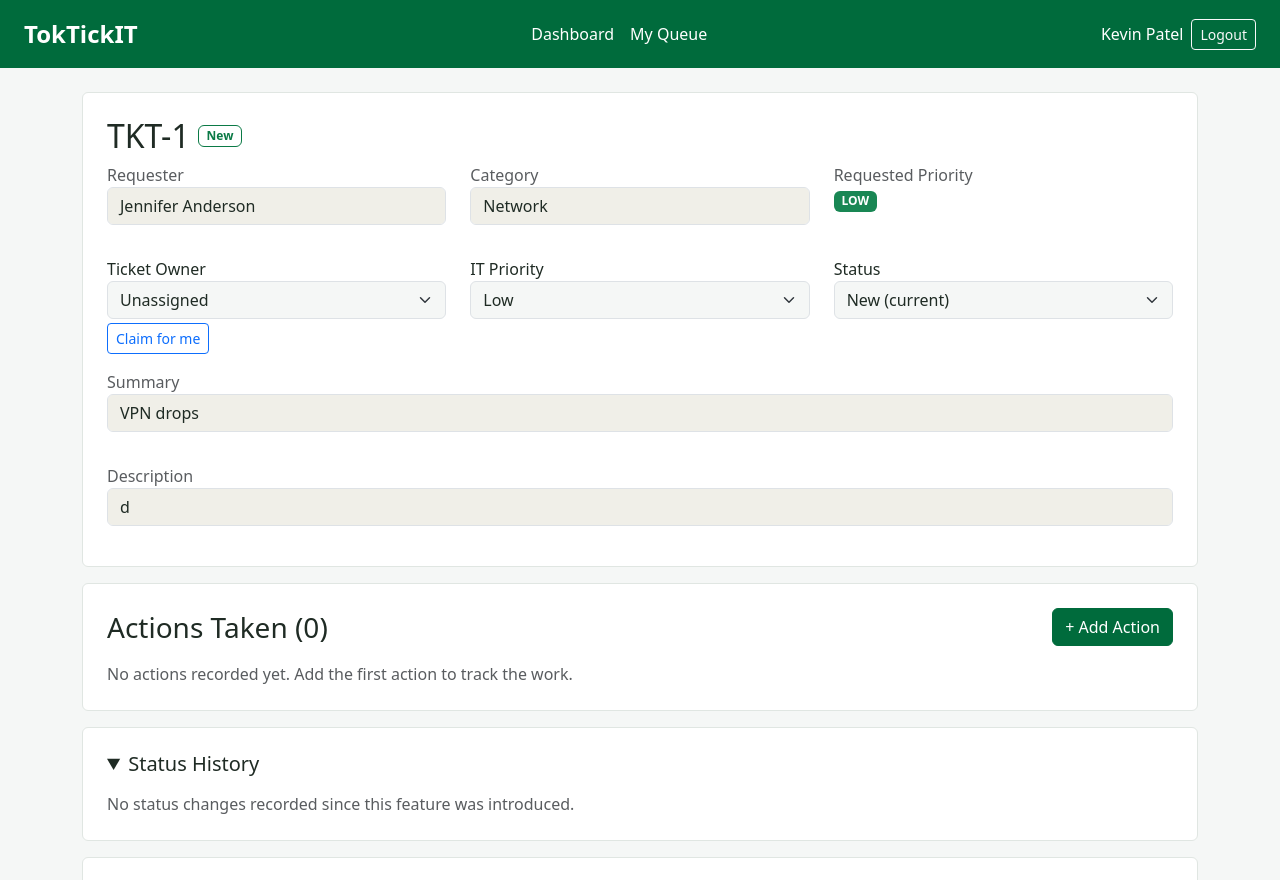
Test case: Ticket workflow UI › stages a status change, saves it with the ticket version on Confirm, and refreshes the badge (FR-06, BR-17)
Select "Open" in the dropdown with test id "status-select" at (1003, 300), box [834,281,1173,319]
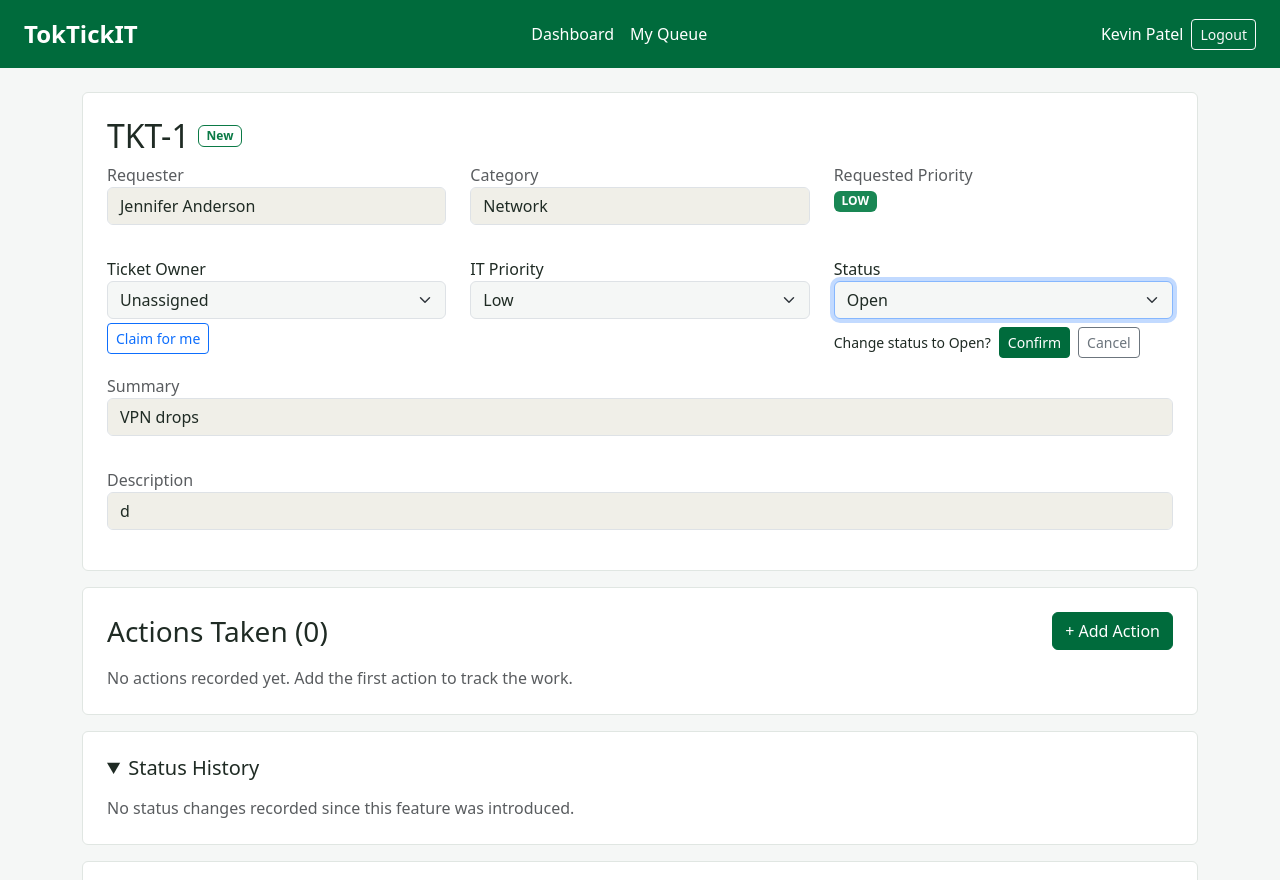
Now the text "Change status to Open?" is shown, box [834,332,991,353]
Click the button "Confirm" at (1034, 343), box [999,327,1070,358]
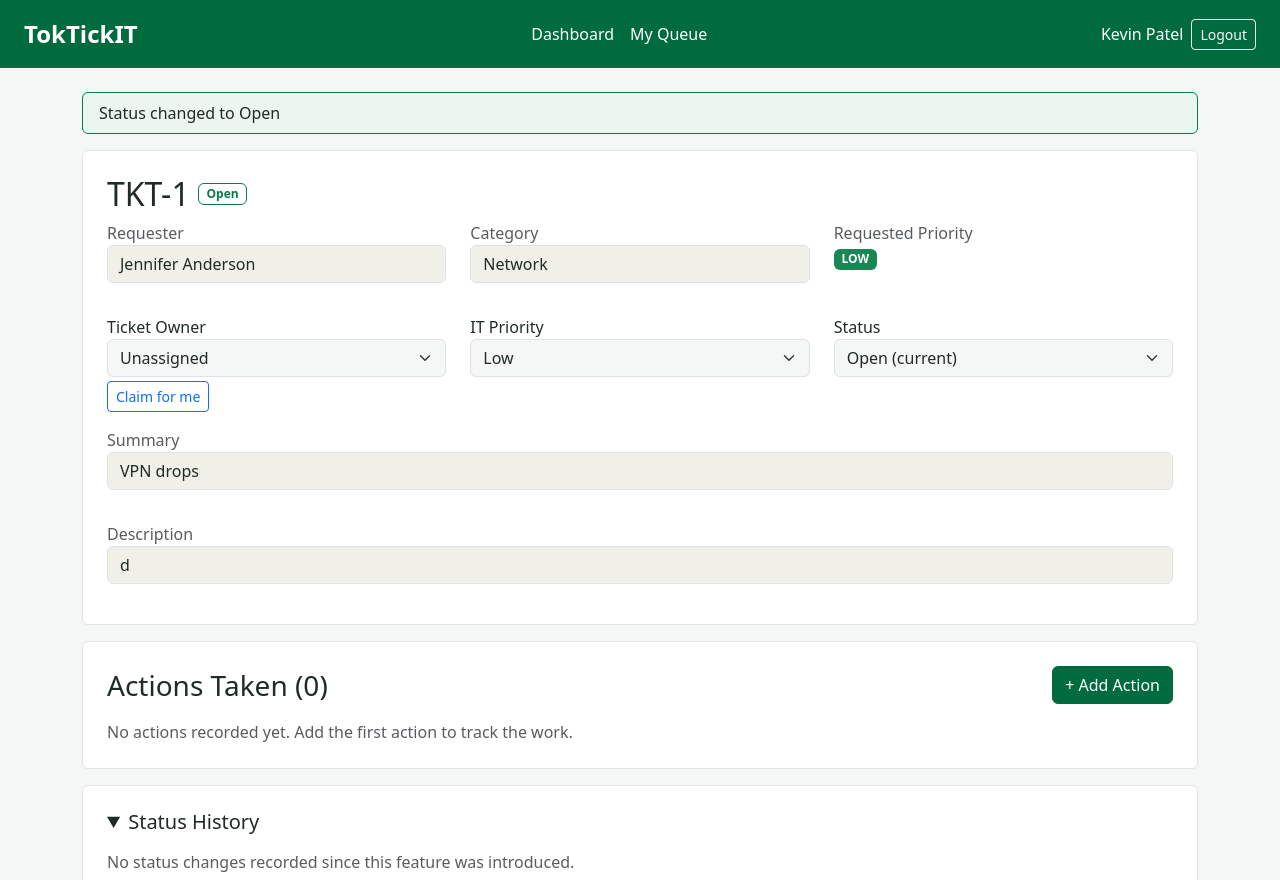
Now the text "Status changed to Open" is shown, box [82,92,1198,134]
Now the text with test id "ticket-status-badge" reads "Open", box [206,185,239,202]
